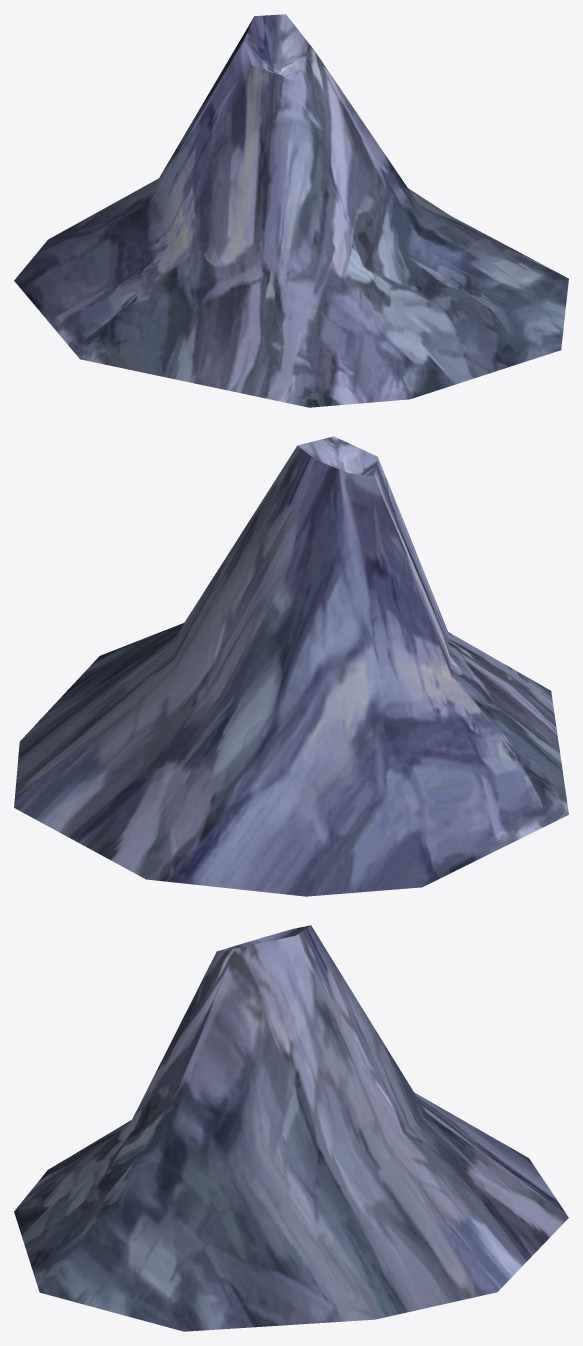
The model's file is pir_m_prp_vol_steamVent_medium.fbx.
3 views of the same model, one above another, from view 1: azimuth 30°, elevation 25°; view 2: azimuth 150°, elevation 25°; view 3: azimuth 270°, elevation 25° (orthographic). The views are drawn at different scales.
Visible parts, largest first — view 1: volcano_peak22; view 2: volcano_peak22; view 3: volcano_peak22.
Boxes of the visible parts, x1=… form: volcano_peak22: x1=14, y1=14, x2=568, y2=407; volcano_peak22: x1=14, y1=436, x2=568, y2=896; volcano_peak22: x1=14, y1=925, x2=568, y2=1331.
Bounding box in the file's own units: 5901 × 3509 × 6229.
Materials: 1 (1 with a texture image).
